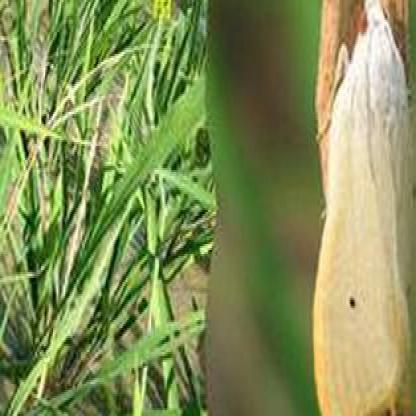stem-borer: (309, 0, 416, 416)
